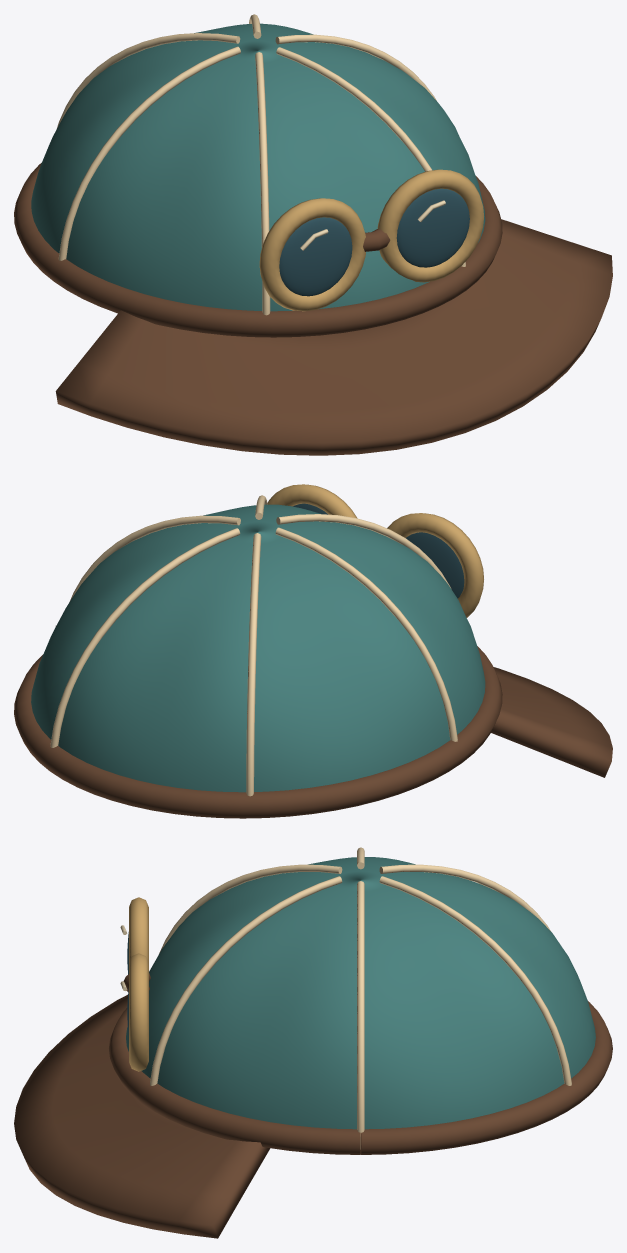
The model's file is hat_mechanic_atelier.glb.
3 renders of one model, top to bottom at view 1: azimuth 30°, elevation 25°; view 2: azimuth 150°, elevation 25°; view 3: azimuth 270°, elevation 25°, orthographic. The views are drawn at different scales.
Parts seen in each view (by area): view 1: hat_mechanic_atelier__TaggedPainted_hat_mechanic_crafted_Mat, hat_mechanic_atelier__WovenClothSeaCap, hat_mechanic_atelier__Painted_hat_mechanic_crafted_Metal, hat_mechanic_atelier__Painted_hat_mechanic_crafted_Glaze; view 2: hat_mechanic_atelier__WovenClothSeaCap, hat_mechanic_atelier__TaggedPainted_hat_mechanic_crafted_Mat, hat_mechanic_atelier__Painted_hat_mechanic_crafted_Metal, hat_mechanic_atelier__Painted_hat_mechanic_crafted_Glaze; view 3: hat_mechanic_atelier__WovenClothSeaCap, hat_mechanic_atelier__TaggedPainted_hat_mechanic_crafted_Mat, hat_mechanic_atelier__Painted_hat_mechanic_crafted_Metal.
Boxes of the visible parts, left/top/right/bottom form: hat_mechanic_atelier__TaggedPainted_hat_mechanic_crafted_Mat: left=14, top=14, right=612, bottom=455; hat_mechanic_atelier__WovenClothSeaCap: left=31, top=23, right=485, bottom=311; hat_mechanic_atelier__Painted_hat_mechanic_crafted_Metal: left=259, top=169, right=483, bottom=311; hat_mechanic_atelier__Painted_hat_mechanic_crafted_Glaze: left=279, top=188, right=469, bottom=296; hat_mechanic_atelier__WovenClothSeaCap: left=31, top=504, right=485, bottom=792; hat_mechanic_atelier__TaggedPainted_hat_mechanic_crafted_Mat: left=14, top=495, right=612, bottom=818; hat_mechanic_atelier__Painted_hat_mechanic_crafted_Metal: left=267, top=484, right=483, bottom=617; hat_mechanic_atelier__Painted_hat_mechanic_crafted_Glaze: left=293, top=503, right=464, bottom=598; hat_mechanic_atelier__WovenClothSeaCap: left=126, top=857, right=595, bottom=1129; hat_mechanic_atelier__TaggedPainted_hat_mechanic_crafted_Mat: left=14, top=847, right=612, bottom=1238; hat_mechanic_atelier__Painted_hat_mechanic_crafted_Metal: left=129, top=897, right=148, bottom=1071.
Bounding box in the file's own units: 0.8143 × 0.383 × 0.777.
